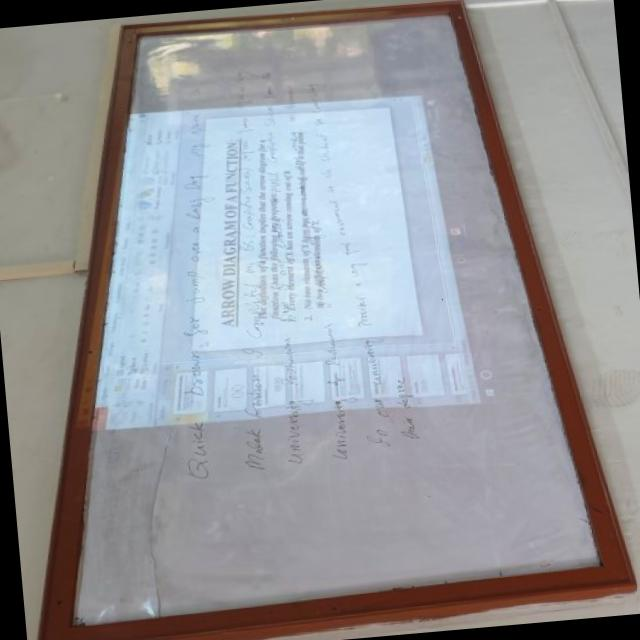Slide: (74, 91, 502, 436)
White-board: (58, 2, 618, 640)
